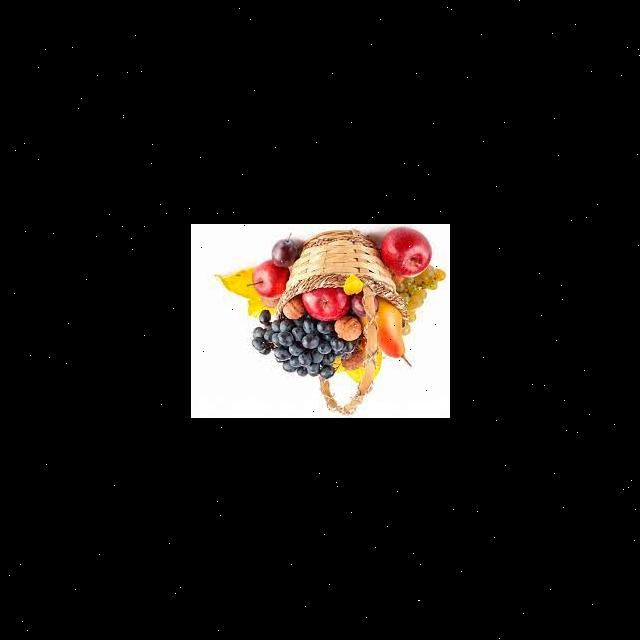grape: (250, 309, 354, 379)
